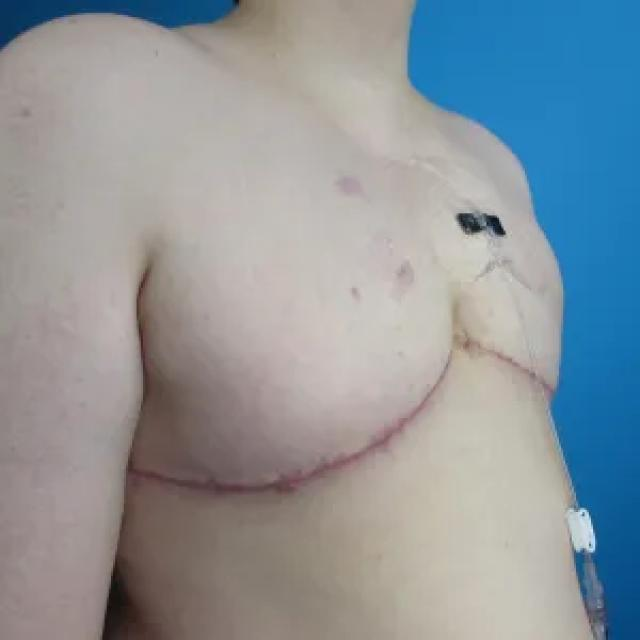Seno herido: (121, 184, 456, 527), (460, 202, 569, 418)
